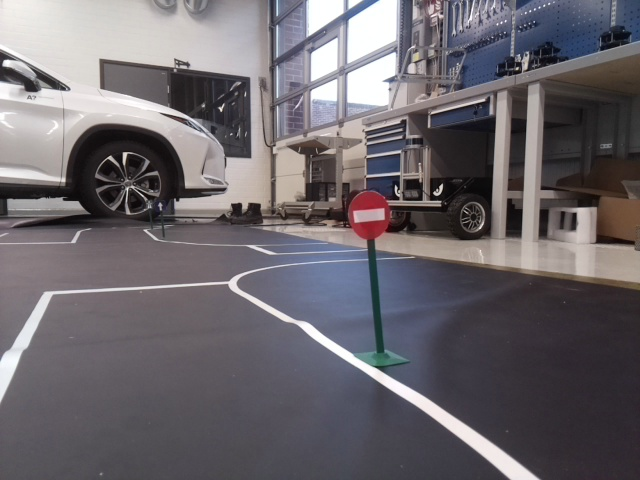NoEntry: (345, 190, 391, 237)
OneWay: (153, 198, 166, 211)
